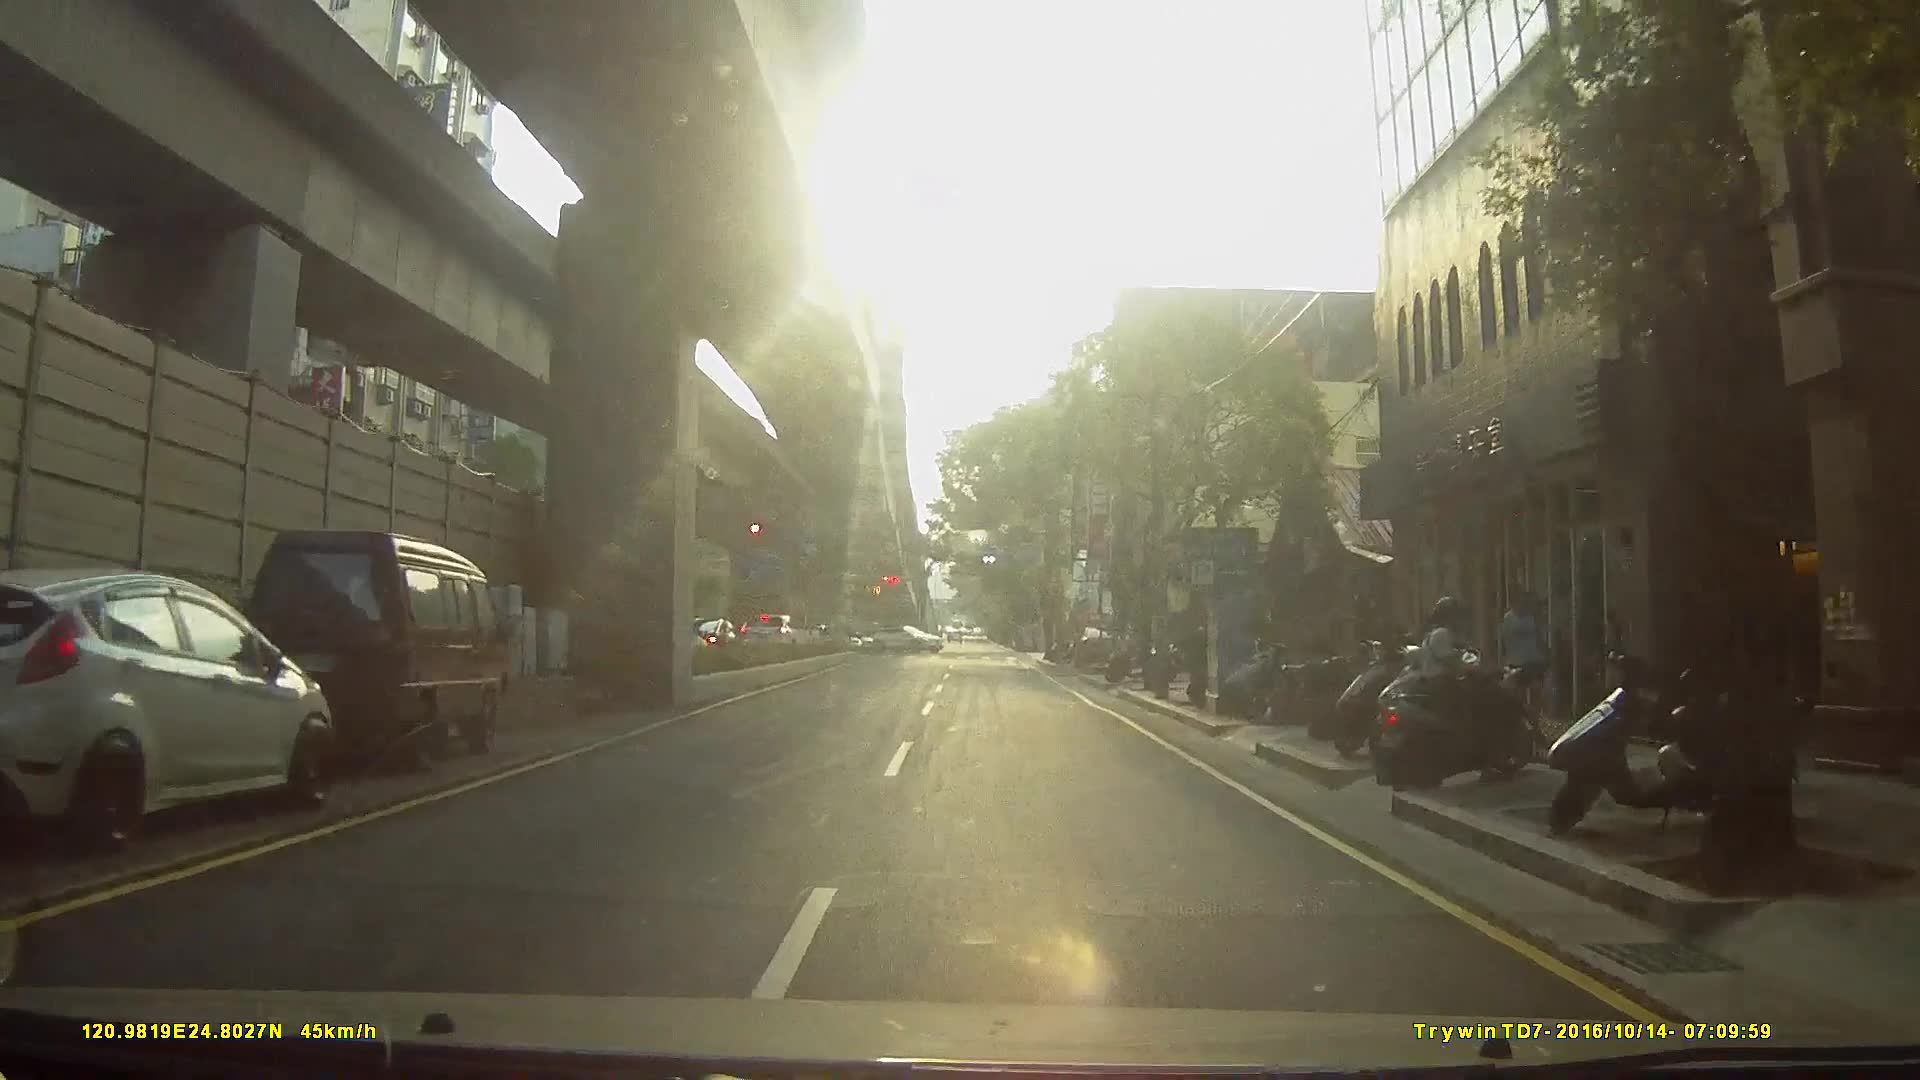pedestrian: (1496, 591, 1554, 735)
rider: (1375, 601, 1552, 808)
vehicle: (1, 562, 369, 847), (223, 521, 540, 779), (735, 611, 814, 657), (1068, 623, 1119, 670), (868, 625, 945, 655)
